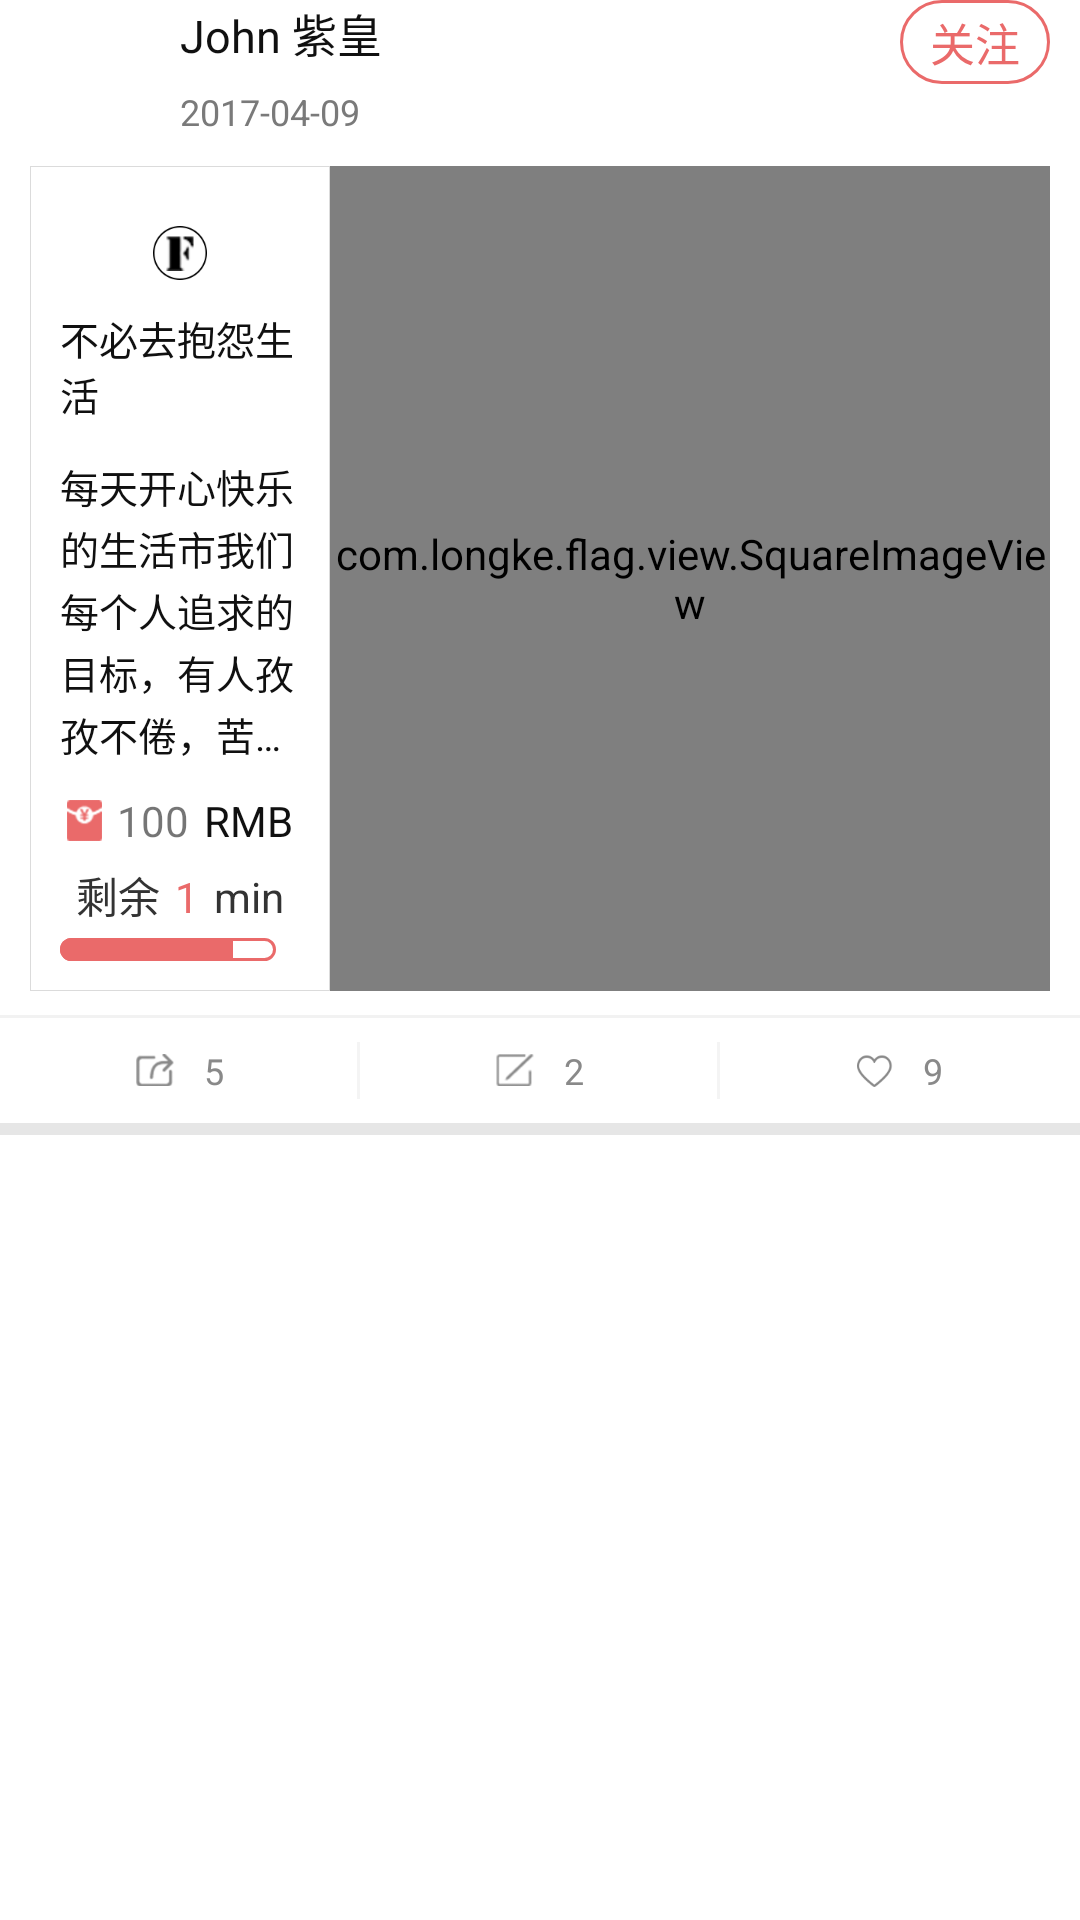

Screen size 1080x1920. Icon name, then its center in pixels as point (x, y):
dianzan: point (874, 1071)
pinglun: point (514, 1070)
zhuanfa: point (155, 1070)
